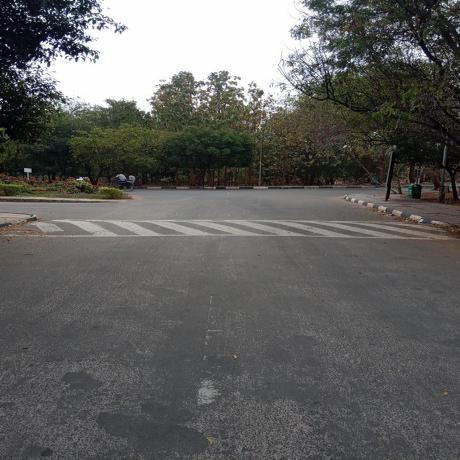Speed Bump: (30, 221, 456, 241)
